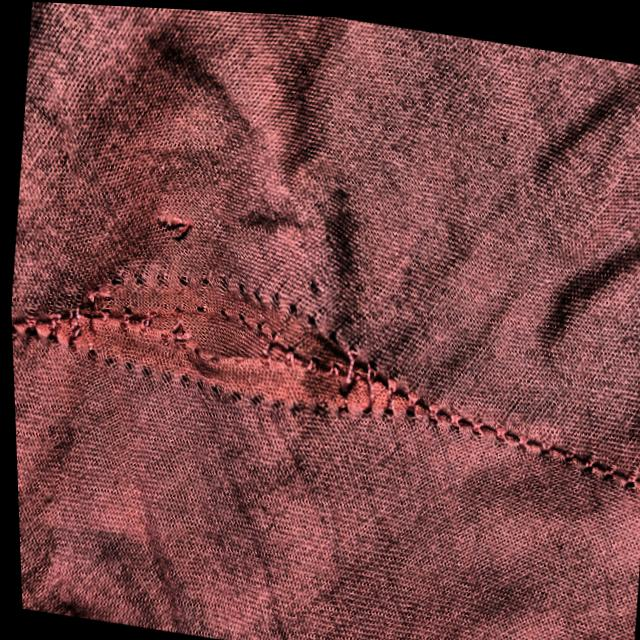seam: (6, 213, 444, 500)
